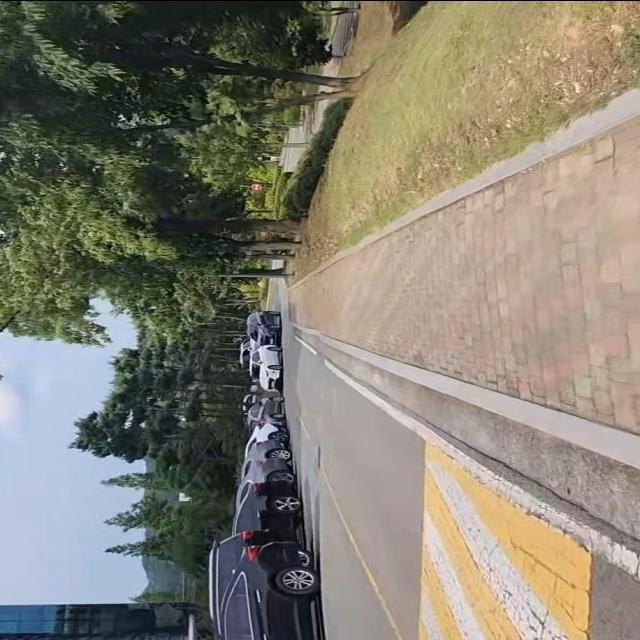obstacle: (206, 524, 323, 640), (225, 392, 309, 535), (238, 305, 287, 393)
sidewalk: (287, 84, 640, 467)
